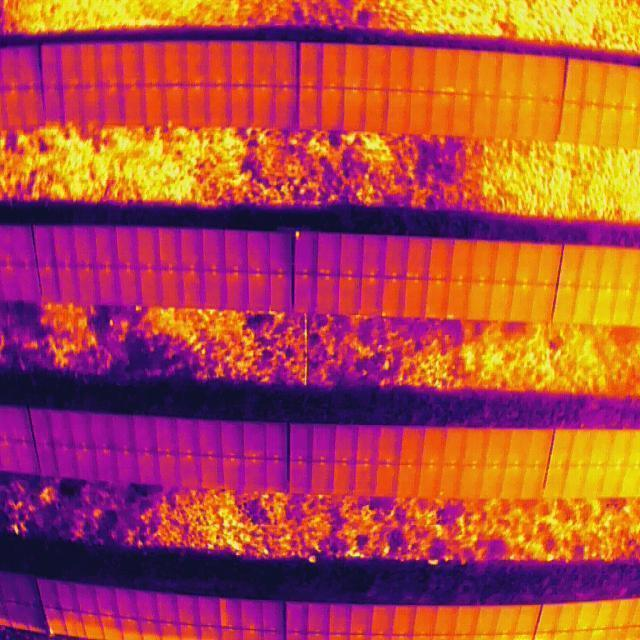hotspot: (433, 46, 457, 93), (447, 279, 467, 318)
